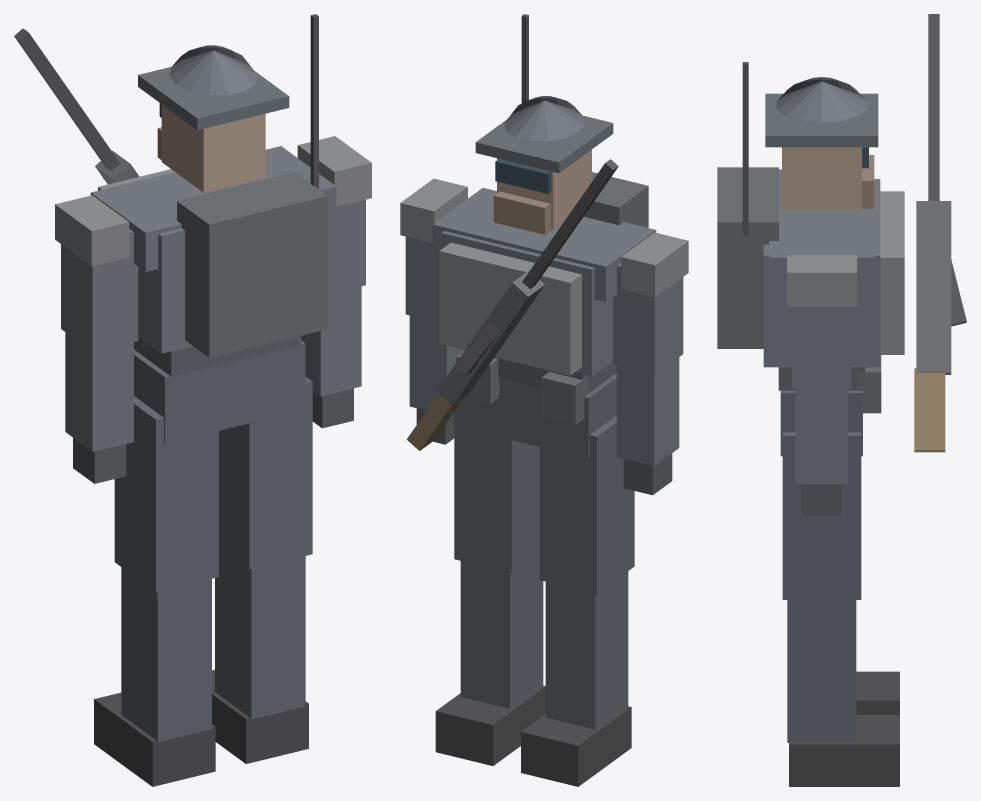
The model's file is western_infantry.glb.
3 views of the same model, side by side, from view 1: azimuth 30°, elevation 25°; view 2: azimuth 150°, elevation 25°; view 3: azimuth 270°, elevation 25° (orthographic). The views are drawn at different scales.
Parts seen in each view (by area): view 1: Pack, LegLeft, ShinLeft, LegRight, ShinRight, Pelvis, ForearmLeft, ArmLeft, Head, Yoke, Boot, ForearmRight (+13 smaller); view 2: LegLeft, Armour, ShinLeft, ShinRight, LegRight, Yoke, Pelvis, Boot, ForearmLeft, ArmLeft, Boot.001, Body (+19 smaller); view 3: ShinRight, LegRight, Pack, Rifle, Yoke, Boot.001, Body, ForearmRight, Head, ArmRight, Armour, HelmetRim (+12 smaller).
Boxes of the visible parts, <box> form: Pack: <box>177,172,327,357</box>; LegLeft: <box>114,396,218,592</box>; ShinLeft: <box>121,567,211,742</box>; LegRight: <box>219,376,312,569</box>; ShinRight: <box>215,547,305,719</box>; Pelvis: <box>134,340,305,443</box>; ForearmLeft: <box>65,332,133,451</box>; ArmLeft: <box>61,229,138,351</box>; Head: <box>161,104,265,192</box>; Yoke: <box>90,146,336,271</box>; Boot: <box>94,692,215,786</box>; ForearmRight: <box>301,286,361,396</box>; LegLeft: <box>539,415,634,593</box>; Armour: <box>439,242,581,375</box>; ShinLeft: <box>545,571,628,729</box>; ShinRight: <box>460,553,543,708</box>; LegRight: <box>454,403,539,573</box>; Yoke: <box>432,188,656,302</box>; Pelvis: <box>461,373,616,458</box>; Boot: <box>521,706,631,786</box>; ForearmLeft: <box>616,357,679,465</box>; ArmLeft: <box>613,263,683,374</box>; Boot.001: <box>435,685,545,765</box>; Body: <box>441,231,612,376</box>; ShinRight: <box>787,600,856,742</box>; LegRight: <box>782,432,861,599</box>; Pack: <box>717,167,778,348</box>; Rifle: <box>916,201,951,374</box>; Yoke: <box>769,169,874,294</box>; Boot.001: <box>789,715,899,786</box>; Body: <box>763,179,880,367</box>; ForearmRight: <box>795,388,847,484</box>; Head: <box>782,147,861,209</box>; ArmRight: <box>792,306,851,388</box>; Armour: <box>880,191,904,354</box>; HelmetRim: <box>765,93,878,147</box>.
Bounding box in the file's own units: 0.7476 × 1.92 × 0.6074.
